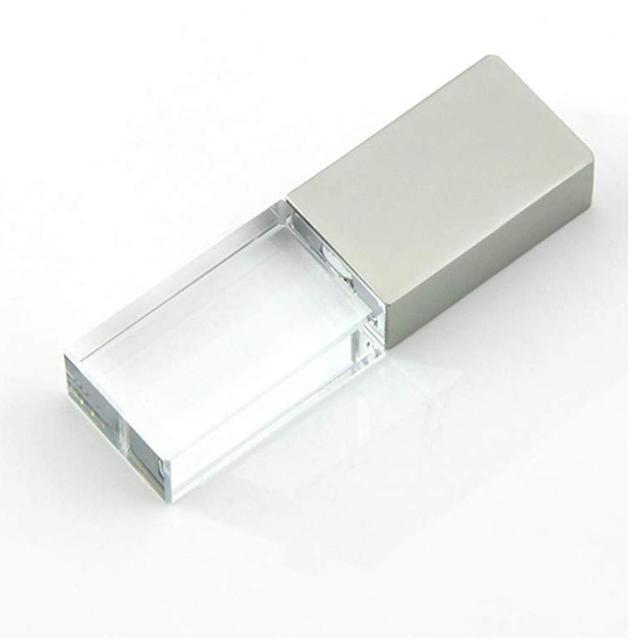USB-Flash-Drive: (61, 55, 595, 504)
